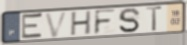E: (21, 12, 45, 40)
F: (93, 8, 118, 36)
H: (69, 10, 93, 37)
S: (118, 7, 142, 34)
T: (145, 5, 164, 32)
V: (44, 10, 71, 39)
